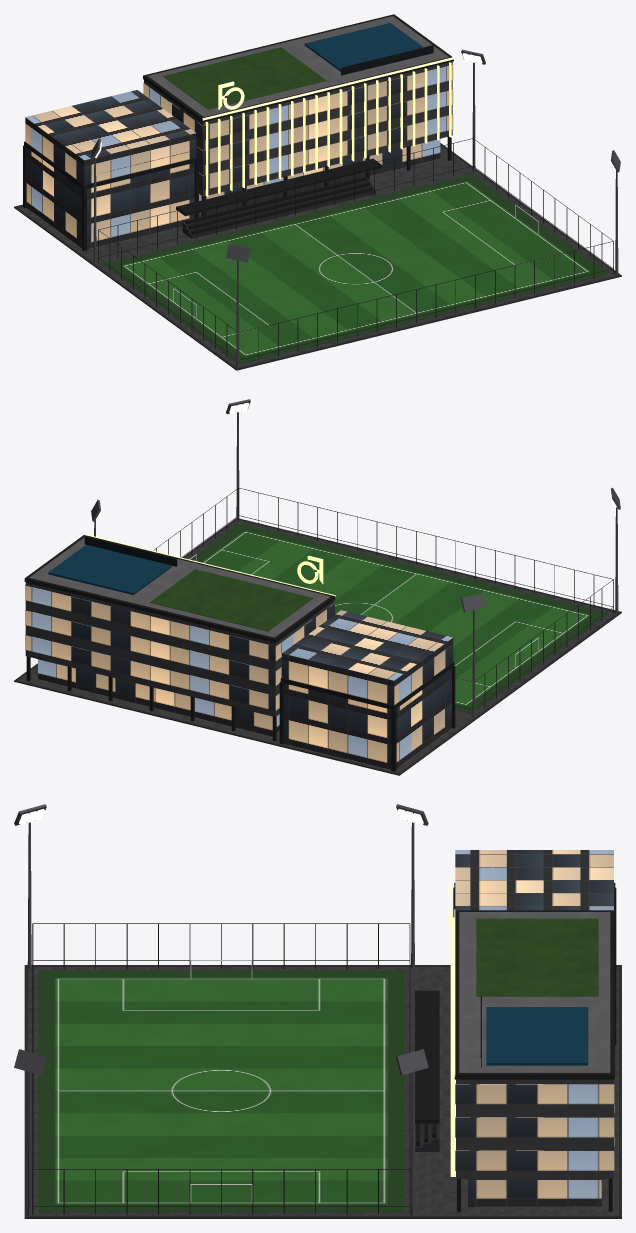
Rendered from training_L5.glb.
3 views of the same model, one above another, from view 1: azimuth 30°, elevation 25°; view 2: azimuth 150°, elevation 25°; view 3: azimuth 270°, elevation 25° (orthographic). The views are drawn at different scales.
Parts seen in each view (by area): view 1: turf_train_training_L5, emissive_curtain_training_L5, black_metal_training_L5, paving_training_L5, cladding_training_L5, emissive_led_training_L5, lawn_training_L5, roofing_training_L5, concrete_dark_training_L5, water_training_L5, steel_training_L5, glass_training_L5; view 2: emissive_curtain_training_L5, turf_train_training_L5, black_metal_training_L5, cladding_training_L5, lawn_training_L5, paving_training_L5, roofing_training_L5, water_training_L5, concrete_dark_training_L5, steel_training_L5, emissive_led_training_L5, glass_training_L5; view 3: turf_train_training_L5, emissive_curtain_training_L5, paving_training_L5, black_metal_training_L5, lawn_training_L5, roofing_training_L5, cladding_training_L5, water_training_L5, concrete_dark_training_L5, steel_training_L5, emissive_led_training_L5.
Boxes of the visible parts, <box> form: turf_train_training_L5: <box>103,174,608,363</box>; emissive_curtain_training_L5: <box>25,65,453,249</box>; black_metal_training_L5: <box>23,14,613,361</box>; paving_training_L5: <box>18,145,615,367</box>; cladding_training_L5: <box>144,61,452,196</box>; emissive_led_training_L5: <box>202,57,453,196</box>; lawn_training_L5: <box>163,47,326,109</box>; roofing_training_L5: <box>148,16,448,116</box>; concrete_dark_training_L5: <box>14,143,621,370</box>; water_training_L5: <box>304,23,423,71</box>; steel_training_L5: <box>91,49,620,368</box>; glass_training_L5: <box>196,46,433,157</box>; emissive_curtain_training_L5: <box>25,585,453,769</box>; turf_train_training_L5: <box>190,523,608,713</box>; black_metal_training_L5: <box>24,488,613,771</box>; cladding_training_L5: <box>25,582,334,716</box>; lawn_training_L5: <box>149,569,313,631</box>; paving_training_L5: <box>17,520,616,773</box>; roofing_training_L5: <box>29,537,330,637</box>; water_training_L5: <box>48,544,171,594</box>; concrete_dark_training_L5: <box>14,518,621,775</box>; steel_training_L5: <box>91,399,620,717</box>; emissive_led_training_L5: <box>84,534,335,596</box>; glass_training_L5: <box>84,537,177,566</box>; turf_train_training_L5: <box>38,970,404,1211</box>; emissive_curtain_training_L5: <box>455,850,614,1206</box>; paving_training_L5: <box>27,966,618,1215</box>; black_metal_training_L5: <box>32,882,616,1214</box>; lawn_training_L5: <box>476,918,598,996</box>; roofing_training_L5: <box>459,912,610,1072</box>; cladding_training_L5: <box>456,1079,613,1179</box>; water_training_L5: <box>486,1007,588,1065</box>; concrete_dark_training_L5: <box>24,965,621,1218</box>; steel_training_L5: <box>14,804,428,1215</box>; emissive_led_training_L5: <box>448,877,455,1176</box>.
Bounding box in the file's own units: 60.05 × 19.62 × 59.64.
15 materials, 7 textured.
